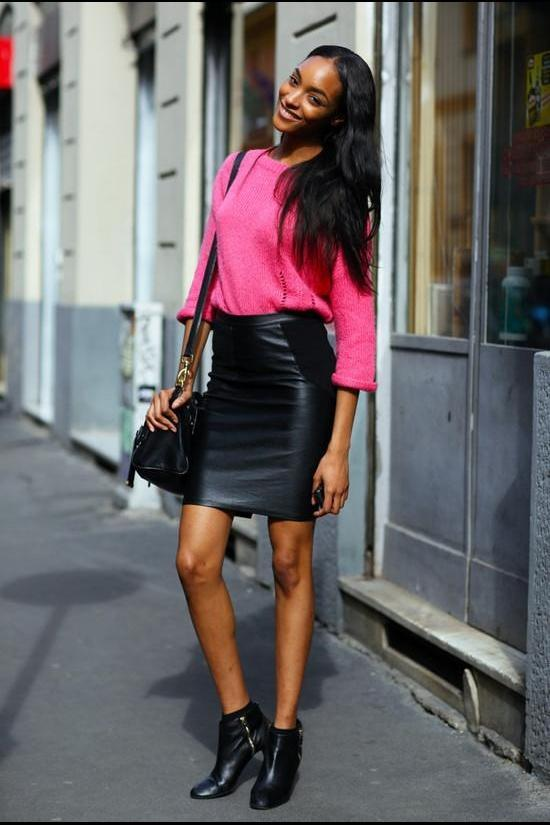skirt: (182, 306, 342, 518)
sweater: (174, 150, 376, 390)
